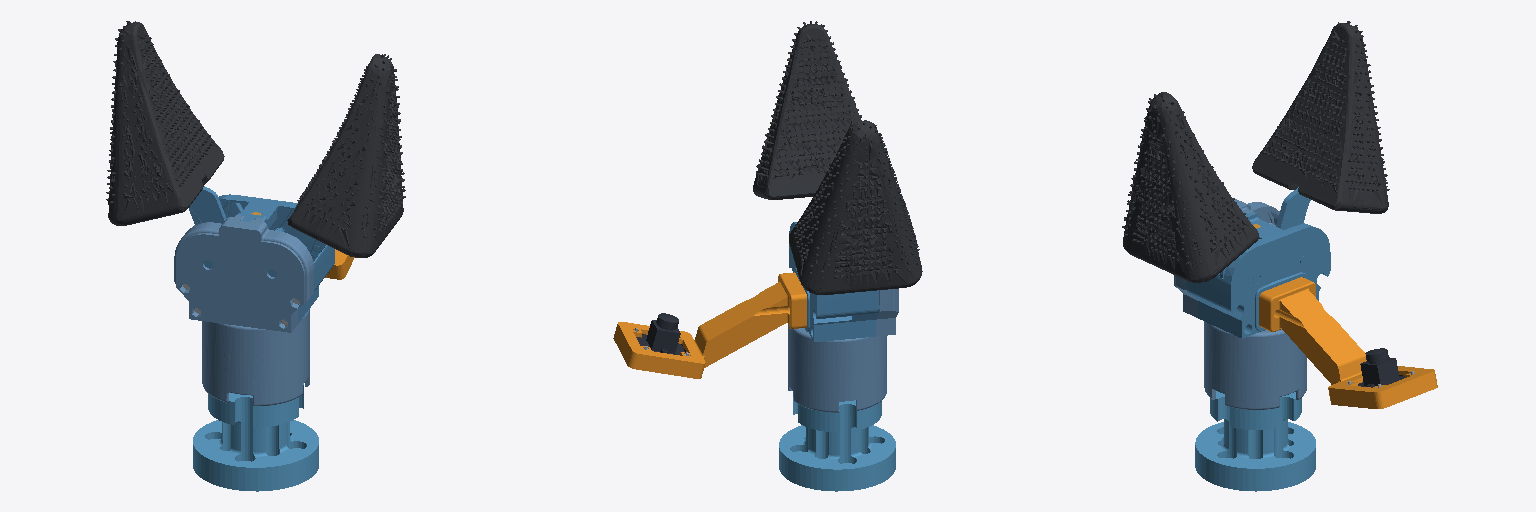
robot.urdf — marvin_r_with_gripper:
<?xml version='1.0' encoding='utf-8'?>
<robot name="marvin_r_with_gripper">
  <link name="Base_R">
    <inertial>
      <origin xyz="0.00032267 4.798E-05 0.04066353" rpy="0 0 0" />
      <mass value="1.1962" />
      <inertia ixx="0.00107329" ixy="-1.68E-06" ixz="-1.05E-05" iyy="0.00107003" iyz="-3.43E-06" izz="0.00127315" />
    </inertial>
    <visual>
      <origin xyz="0 0 0" rpy="0 0 0" />
      <geometry>
        <mesh filename="../meshes/Base_R.STL" />
      </geometry>
      <material name="">
        <color rgba="0.84 0.87 0.91 1" />
      </material>
    </visual>
    <collision>
      <origin xyz="0 0 0" rpy="0 0 0" />
      <geometry>
        <mesh filename="../meshes/Base_R.STL" />
      </geometry>
    </collision>
  </link>
  <link name="Link1_R">
    <inertial>
      <origin xyz="0.00002347 0.00557150 -0.03075998" rpy="0 0 0" />
      <mass value="1.9705" />
      <inertia ixx="0.00492293" ixy="0.00000550" ixz="0.00000193" iyy="0.00526513" iyz="0.00033232" izz="0.00188107" />
    </inertial>
    <visual>
      <origin xyz="0 0 0" rpy="0 0 0" />
      <geometry>
        <mesh filename="../meshes/Link1_R.STL" />
      </geometry>
      <material name="">
        <color rgba="0.84 0.87 0.91 1" />
      </material>
    </visual>
    <collision>
      <origin xyz="0 0 0" rpy="0 0 0" />
      <geometry>
        <mesh filename="../meshes/Link1_R.STL" />
      </geometry>
    </collision>
  </link>
  <joint name="Joint1_R" type="revolute">
    <origin xyz="0 0 0.1745" rpy="0 0 0" />
    <parent link="Base_R" />
    <child link="Link1_R" />
    <axis xyz="0 0 1" />
    <limit lower="-3.1067" upper="3.1067" effort="108" velocity="3.1416" />
  </joint>
  <link name="Link2_R">
    <inertial>
      <origin xyz="0.00013483 0.06170460 0.00950639" rpy="0 0 0" />
      <mass value="2.24398" />
      <inertia ixx="0.01194933" ixy="0.00000336" ixz="0.00000091" iyy="0.00361581" iyz="-0.00132804" izz="0.01098356" />
    </inertial>
    <visual>
      <origin xyz="0 0 0" rpy="0 0 0" />
      <geometry>
        <mesh filename="../meshes/Link2_R.STL" />
      </geometry>
      <material name="">
        <color rgba="0.84 0.87 0.91 1" />
      </material>
    </visual>
    <collision>
      <origin xyz="0 0 0" rpy="0 0 0" />
      <geometry>
        <mesh filename="../meshes/Link2_R.STL" />
      </geometry>
    </collision>
  </link>
  <joint name="Joint2_R" type="revolute">
    <origin xyz="0 0 0" rpy="1.5708 0 0" />
    <parent link="Link1_R" />
    <child link="Link2_R" />
    <axis xyz="0 0 1" />
    <limit lower="-2.0944" upper="2.0944" effort="108" velocity="3.1416" />
  </joint>
  <link name="Link3_R">
    <inertial>
      <origin xyz="0.00968562 0.00246599 -0.04627302" rpy="0 0 0" />
      <mass value="1.9242" />
      <inertia ixx="0.00718224" ixy="0.00004413" ixz="0.00089552" iyy="0.00762563" iyz="0.00022096" izz="0.00178597" />
    </inertial>
    <visual>
      <origin xyz="0 0 0" rpy="0 0 0" />
      <geometry>
        <mesh filename="../meshes/Link3_R.STL" />
      </geometry>
      <material name="">
        <color rgba="0.84 0.87 0.91 1" />
      </material>
    </visual>
    <collision>
      <origin xyz="0 0 0" rpy="0 0 0" />
      <geometry>
        <mesh filename="../meshes/Link3_R.STL" />
      </geometry>
    </collision>
  </link>
  <joint name="Joint3_R" type="revolute">
    <origin xyz="0 0.287 0" rpy="-1.5708 0 0" />
    <parent link="Link2_R" />
    <child link="Link3_R" />
    <axis xyz="0 0 1" />
    <limit lower="-3.1067" upper="3.1067" effort="66" velocity="3.1416" />
  </joint>
  <link name="Link4_R">
    <inertial>
      <origin xyz="0.00850411 -0.04718223 0.00941509" rpy="0 0 0" />
      <mass value="1.6085" />
      <inertia ixx="0.00580480" ixy="-0.00066669" ixz="-0.00012722" iyy="0.00223807" iyz="0.00070523" izz="0.00533060" />
    </inertial>
    <visual>
      <origin xyz="0 0 0" rpy="0 0 0" />
      <geometry>
        <mesh filename="../meshes/Link4_R.STL" />
      </geometry>
      <material name="">
        <color rgba="0.84 0.87 0.91 1" />
      </material>
    </visual>
    <collision>
      <origin xyz="0 0 0" rpy="0 0 0" />
      <geometry>
        <mesh filename="../meshes/Link4_R.STL" />
      </geometry>
    </collision>
  </link>
  <joint name="Joint4_R" type="revolute">
    <origin xyz="0.018 0 0" rpy="-1.5708 0 3.1416" />
    <parent link="Link3_R" />
    <child link="Link4_R" />
    <axis xyz="0 0 1" />
    <limit lower="-2.5307" upper="1.0472" effort="66" velocity="3.1416" />
  </joint>
  <link name="Link5_R">
    <inertial>
      <origin xyz="-0.00051127 -0.00101064 -0.11271739" rpy="0 0 0" />
      <mass value="2.0883" />
      <inertia ixx="0.00626603" ixy="0.00004009" ixz="-0.00005338" iyy="0.00564387" iyz="0.00006193" izz="0.00243632" />
    </inertial>
    <visual>
      <origin xyz="0 0 0" rpy="0 0 0" />
      <geometry>
        <mesh filename="../meshes/Link5_R.STL" />
      </geometry>
      <material name="">
        <color rgba="0.84 0.87 0.91 1" />
      </material>
    </visual>
    <collision>
      <origin xyz="0 0 0" rpy="0 0 0" />
      <geometry>
        <mesh filename="../meshes/Link5_R.STL" />
      </geometry>
    </collision>
  </link>
  <joint name="Joint5_R" type="revolute">
    <origin xyz="0.018 -0.314 0" rpy="-1.5708 0 3.1416" />
    <parent link="Link4_R" />
    <child link="Link5_R" />
    <axis xyz="0 0 1" />
    <limit lower="-3.1067" upper="3.1067" effort="18" velocity="3.1416" />
  </joint>
  <link name="Link6_R">
    <inertial>
      <origin xyz="0.00032659 -0.00531336 0.00030182" rpy="0 0 0" />
      <mass value="0.72496" />
      <inertia ixx="0.00046040" ixy="-0.00000189" ixz="-0.00000083" iyy="0.00051716" iyz="-0.00000346" izz="0.00042521" />
    </inertial>
    <visual>
      <origin xyz="0 0 0" rpy="0 0 0" />
      <geometry>
        <mesh filename="../meshes/Link6_R.STL" />
      </geometry>
      <material name="">
        <color rgba="0.84 0.87 0.91 1" />
      </material>
    </visual>
    <collision>
      <origin xyz="0 0 0" rpy="0 0 0" />
      <geometry>
        <mesh filename="../meshes/Link6_R.STL" />
      </geometry>
    </collision>
  </link>
  <joint name="Joint6_R" type="revolute">
    <origin xyz="0 0 0" rpy="1.5708 -1.5708 0" />
    <parent link="Link5_R" />
    <child link="Link6_R" />
    <axis xyz="0 0 1" />
    <limit lower="-1.0472" upper="1.0472" effort="18" velocity="3.1416" />
  </joint>
  <link name="Link7_R">
    <inertial>
      <origin xyz="-0.00009108 -0.03153255 0.00889371" rpy="0 0 0" />
      <mass value="0.68606" />
      <inertia ixx="0.00173687" ixy="-0.00000345" ixz="-0.00000116" iyy="0.00089035" iyz="0.00030680" izz="0.00139406" />
    </inertial>
    <visual>
      <origin xyz="0 0 0" rpy="0 0 0" />
      <geometry>
        <mesh filename="../meshes/Link7_R.STL" />
      </geometry>
      <material name="">
        <color rgba="0.84 0.87 0.91 1" />
      </material>
    </visual>
    <collision>
      <origin xyz="0 0 0" rpy="0 0 0" />
      <geometry>
        <mesh filename="../meshes/Link7_R.STL" />
      </geometry>
    </collision>
  </link>
  <joint name="Joint7_R" type="revolute">
    <origin xyz="0 0 0" rpy="1.5708 -1.5708 0" />
    <parent link="Link6_R" />
    <child link="Link7_R" />
    <axis xyz="0 0 1" />
    <limit lower="-1.5708" upper="1.5708" effort="18" velocity="3.1416" />
  </joint>
  <mujoco>
    <compiler discardvisual="false" fusestatic="false" strippath="false" />
  </mujoco>
  <link name="flange_R" />
  <joint name="flange_fixed_R" type="fixed">
    <parent link="Link7_R" />
    <child link="flange_R" />
    <origin xyz="0 -0.095 0" rpy="1.57079632679 -1.57079632679 0" />
  </joint>
  <link name="gripper_R">
    <inertial>
      <origin xyz="0.0173978487962 -0.0173985527421 0.0879018604755" rpy="0 0 0" />
      <mass value="0.5599999999999999" />
      <inertia ixx="0.002279585654318638" iyy="0.00227957296689104" izz="0.0016745101131867824" ixy="0" ixz="0" iyz="0" />
    </inertial>
    <visual name="windows_00">
      <origin xyz="0 0 0" rpy="0 0 0" />
      <geometry>
        <mesh filename="../meshes/gripper/windows_00.stl" />
      </geometry>
      <material name="windows_00">
        <color rgba="0.65 0.66 0.68 1" />
      </material>
    </visual>
    <visual name="windows_01">
      <origin xyz="0 0 0" rpy="0 0 0" />
      <geometry>
        <mesh filename="../meshes/gripper/windows_01.stl" />
      </geometry>
      <material name="windows_01">
        <color rgba="0.65 0.66 0.68 1" />
      </material>
    </visual>
    <visual name="windows_02">
      <origin xyz="0 0 0" rpy="0 0 0" />
      <geometry>
        <mesh filename="../meshes/gripper/windows_02.stl" />
      </geometry>
      <material name="windows_02">
        <color rgba="0.65 0.66 0.68 1" />
      </material>
    </visual>
    <visual name="windows_03">
      <origin xyz="0 0 0" rpy="0 0 0" />
      <geometry>
        <mesh filename="../meshes/gripper/windows_03.stl" />
      </geometry>
      <material name="windows_03">
        <color rgba="0.65 0.66 0.68 1" />
      </material>
    </visual>
    <visual name="windows_04">
      <origin xyz="0 0 0" rpy="0 0 0" />
      <geometry>
        <mesh filename="../meshes/gripper/windows_04.stl" />
      </geometry>
      <material name="windows_04">
        <color rgba="0.65 0.66 0.68 1" />
      </material>
    </visual>
    <visual name="windows_05">
      <origin xyz="0 0 0" rpy="0 0 0" />
      <geometry>
        <mesh filename="../meshes/gripper/windows_05.stl" />
      </geometry>
      <material name="windows_05">
        <color rgba="0.65 0.66 0.68 1" />
      </material>
    </visual>
    <visual name="windows_06">
      <origin xyz="0 0 0" rpy="0 0 0" />
      <geometry>
        <mesh filename="../meshes/gripper/windows_06.stl" />
      </geometry>
      <material name="windows_06">
        <color rgba="0.65 0.66 0.68 1" />
      </material>
    </visual>
    <visual name="windows_07">
      <origin xyz="0 0 0" rpy="0 0 0" />
      <geometry>
        <mesh filename="../meshes/gripper/windows_07.stl" />
      </geometry>
      <material name="windows_07">
        <color rgba="0.65 0.66 0.68 1" />
      </material>
    </visual>
    <visual name="windows_08">
      <origin xyz="0 0 0" rpy="0 0 0" />
      <geometry>
        <mesh filename="../meshes/gripper/windows_08.stl" />
      </geometry>
      <material name="windows_08">
        <color rgba="0.65 0.66 0.68 1" />
      </material>
    </visual>
    <visual name="windows_09">
      <origin xyz="0 0 0" rpy="0 0 0" />
      <geometry>
        <mesh filename="../meshes/gripper/windows_09.stl" />
      </geometry>
      <material name="windows_09">
        <color rgba="0.65 0.66 0.68 1" />
      </material>
    </visual>
    <visual name="windows_12">
      <origin xyz="0 0 0" rpy="0 0 0" />
      <geometry>
        <mesh filename="../meshes/gripper/windows_12.stl" />
      </geometry>
      <material name="windows_12">
        <color rgba="0.64 0.67 0.71 1" />
      </material>
    </visual>
    <visual name="windows_13">
      <origin xyz="0 0 0" rpy="0 0 0" />
      <geometry>
        <mesh filename="../meshes/gripper/windows_13.stl" />
      </geometry>
      <material name="windows_13">
        <color rgba="0.43 0.58 0.72 1" />
      </material>
    </visual>
    <collision>
      <origin xyz="0 0 0" rpy="0 0 0" />
      <geometry>
        <mesh filename="../meshes/gripper/windows_13_collision.stl" />
      </geometry>
    </collision>
    <visual name="windows_14">
      <origin xyz="0 0 0" rpy="0 0 0" />
      <geometry>
        <mesh filename="../meshes/gripper/windows_14.stl" />
      </geometry>
      <material name="windows_14">
        <color rgba="0.92 0.6 0.2 1" />
      </material>
    </visual>
    <visual name="windows_15">
      <origin xyz="0 0 0" rpy="0 0 0" />
      <geometry>
        <mesh filename="../meshes/gripper/windows_15.stl" />
      </geometry>
      <material name="windows_15">
        <color rgba="0.83 0.62 0.28 1" />
      </material>
    </visual>
    <visual name="windows_18">
      <origin xyz="0 0 0" rpy="0 0 0" />
      <geometry>
        <mesh filename="../meshes/gripper/windows_18.stl" />
      </geometry>
      <material name="windows_18">
        <color rgba="0.64 0.67 0.71 1" />
      </material>
    </visual>
    <visual name="windows_19">
      <origin xyz="0 0 0" rpy="0 0 0" />
      <geometry>
        <mesh filename="../meshes/gripper/windows_19.stl" />
      </geometry>
      <material name="windows_19">
        <color rgba="0.64 0.67 0.71 1" />
      </material>
    </visual>
    <visual name="windows_20">
      <origin xyz="0 0 0" rpy="0 0 0" />
      <geometry>
        <mesh filename="../meshes/gripper/windows_20.stl" />
      </geometry>
      <material name="windows_20">
        <color rgba="0.35 0.57 0.73 1" />
      </material>
    </visual>
    <collision>
      <origin xyz="0 0 0" rpy="0 0 0" />
      <geometry>
        <mesh filename="../meshes/gripper/windows_20_collision.stl" />
      </geometry>
    </collision>
    <visual name="windows_21">
      <origin xyz="0 0 0" rpy="0 0 0" />
      <geometry>
        <mesh filename="../meshes/gripper/windows_21.stl" />
      </geometry>
      <material name="windows_21">
        <color rgba="0.22 0.24 0.28 1" />
      </material>
    </visual>
    <visual name="windows_22">
      <origin xyz="0 0 0" rpy="0 0 0" />
      <geometry>
        <mesh filename="../meshes/gripper/windows_22.stl" />
      </geometry>
      <material name="windows_22">
        <color rgba="0.38 0.64 0.8 1" />
      </material>
    </visual>
    <visual name="windows_23">
      <origin xyz="0 0 0" rpy="0 0 0" />
      <geometry>
        <mesh filename="../meshes/gripper/windows_23.stl" />
      </geometry>
      <material name="windows_23">
        <color rgba="0.43 0.58 0.72 1" />
      </material>
    </visual>
    <collision>
      <origin xyz="0 0 0" rpy="0 0 0" />
      <geometry>
        <mesh filename="../meshes/gripper/windows_23_collision.stl" />
      </geometry>
    </collision>
    <visual name="windows_25">
      <origin xyz="0 0 0" rpy="0 0 0" />
      <geometry>
        <mesh filename="../meshes/gripper/windows_25.stl" />
      </geometry>
      <material name="windows_25">
        <color rgba="0.64 0.67 0.71 1" />
      </material>
    </visual>
    <visual name="windows_26">
      <origin xyz="0 0 0" rpy="0 0 0" />
      <geometry>
        <mesh filename="../meshes/gripper/windows_26.stl" />
      </geometry>
      <material name="windows_26">
        <color rgba="0.64 0.67 0.71 1" />
      </material>
    </visual>
    <visual name="windows_27">
      <origin xyz="0 0 0" rpy="0 0 0" />
      <geometry>
        <mesh filename="../meshes/gripper/windows_27.stl" />
      </geometry>
      <material name="windows_27">
        <color rgba="0.64 0.67 0.71 1" />
      </material>
    </visual>
    <visual name="windows_28">
      <origin xyz="0 0 0" rpy="0 0 0" />
      <geometry>
        <mesh filename="../meshes/gripper/windows_28.stl" />
      </geometry>
      <material name="windows_28">
        <color rgba="0.64 0.67 0.71 1" />
      </material>
    </visual>
    <visual name="windows_29">
      <origin xyz="0 0 0" rpy="0 0 0" />
      <geometry>
        <mesh filename="../meshes/gripper/windows_29.stl" />
      </geometry>
      <material name="windows_29">
        <color rgba="0.65 0.66 0.68 1" />
      </material>
    </visual>
    <visual name="windows_30">
      <origin xyz="0 0 0" rpy="0 0 0" />
      <geometry>
        <mesh filename="../meshes/gripper/windows_30.stl" />
      </geometry>
      <material name="windows_30">
        <color rgba="0.64 0.67 0.71 1" />
      </material>
    </visual>
    <visual name="windows_31">
      <origin xyz="0 0 0" rpy="0 0 0" />
      <geometry>
        <mesh filename="../meshes/gripper/windows_31.stl" />
      </geometry>
      <material name="windows_31">
        <color rgba="0.65 0.66 0.68 1" />
      </material>
    </visual>
    <visual name="windows_32">
      <origin xyz="0 0 0" rpy="0 0 0" />
      <geometry>
        <mesh filename="../meshes/gripper/windows_32.stl" />
      </geometry>
      <material name="windows_32">
        <color rgba="0.65 0.66 0.68 1" />
      </material>
    </visual>
    <visual name="windows_33">
      <origin xyz="0 0 0" rpy="0 0 0" />
      <geometry>
        <mesh filename="../meshes/gripper/windows_33.stl" />
      </geometry>
      <material name="windows_33">
        <color rgba="0.65 0.66 0.68 1" />
      </material>
    </visual>
    <visual name="windows_34">
      <origin xyz="0 0 0" rpy="0 0 0" />
      <geometry>
        <mesh filename="../meshes/gripper/windows_34.stl" />
      </geometry>
      <material name="windows_34">
        <color rgba="0.64 0.67 0.71 1" />
      </material>
    </visual>
    <visual name="windows_35">
      <origin xyz="0 0 0" rpy="0 0 0" />
      <geometry>
        <mesh filename="../meshes/gripper/windows_35.stl" />
      </geometry>
      <material name="windows_35">
        <color rgba="0.65 0.66 0.68 1" />
      </material>
    </visual>
    <visual name="windows_36">
      <origin xyz="0 0 0" rpy="0 0 0" />
      <geometry>
        <mesh filename="../meshes/gripper/windows_36.stl" />
      </geometry>
      <material name="windows_36">
        <color rgba="0.64 0.67 0.71 1" />
      </material>
    </visual>
    <visual name="windows_37">
      <origin xyz="0 0 0" rpy="0 0 0" />
      <geometry>
        <mesh filename="../meshes/gripper/windows_37.stl" />
      </geometry>
      <material name="windows_37">
        <color rgba="0.64 0.67 0.71 1" />
      </material>
    </visual>
  </link>
  <link name="gripper_R_shaft">
    <inertial>
      <origin xyz="0 0 0.0222999959052" rpy="0 0 0" />
      <mass value="0.08000000000000002" />
      <inertia ixx="3.8087871309740615e-05" iyy="3.809107795905756e-05" izz="1.6325626265346687e-05" ixy="0" ixz="0" iyz="0" />
    </inertial>
    <visual name="windows_24">
      <origin xyz="0 0 0" rpy="0 0 0" />
      <geometry>
        <mesh filename="../meshes/gripper/windows_24.stl" />
      </geometry>
      <material name="windows_24">
        <color rgba="0.83 0.62 0.28 1" />
      </material>
    </visual>
  </link>
  <link name="gripper_R_1">
    <inertial>
      <origin xyz="0.00609649628609 -0.00743152875382 0.0388951395498" rpy="0 0 0" />
      <mass value="0.08000000000000002" />
      <inertia ixx="9.842353058535354e-05" iyy="0.00010140583011828495" izz="4.556528629881749e-05" ixy="0" ixz="0" iyz="0" />
    </inertial>
    <visual name="windows_11">
      <origin xyz="0 0 0" rpy="0 0 0" />
      <geometry>
        <mesh filename="../meshes/gripper/windows_11.stl" />
      </geometry>
      <material name="windows_11">
        <color rgba="0.25 0.26 0.28 1" />
      </material>
    </visual>
    <collision>
      <origin xyz="0 0 0" rpy="0 0 0" />
      <geometry>
        <mesh filename="../meshes/gripper/windows_11_collision.stl" />
      </geometry>
    </collision>
    <visual name="windows_16">
      <origin xyz="0 0 0" rpy="0 0 0" />
      <geometry>
        <mesh filename="../meshes/gripper/windows_16.stl" />
      </geometry>
      <material name="windows_16">
        <color rgba="0.35 0.57 0.73 1" />
      </material>
    </visual>
    <collision>
      <origin xyz="0 0 0" rpy="0 0 0" />
      <geometry>
        <mesh filename="../meshes/gripper/windows_16_collision.stl" />
      </geometry>
    </collision>
  </link>
  <link name="gripper_R_17">
    <inertial>
      <origin xyz="0.00932866686431 0.00192968675112 0.0388951440536" rpy="0 0 0" />
      <mass value="0.08000000000000002" />
      <inertia ixx="9.888106375838761e-05" iyy="9.648394838028121e-05" izz="4.1100970061134626e-05" ixy="0" ixz="0" iyz="0" />
    </inertial>
    <visual name="windows_10">
      <origin xyz="0 0 0" rpy="0 0 0" />
      <geometry>
        <mesh filename="../meshes/gripper/windows_10.stl" />
      </geometry>
      <material name="windows_10">
        <color rgba="0.25 0.26 0.28 1" />
      </material>
    </visual>
    <collision>
      <origin xyz="0 0 0" rpy="0 0 0" />
      <geometry>
        <mesh filename="../meshes/gripper/windows_10_collision.stl" />
      </geometry>
    </collision>
    <visual name="windows_17">
      <origin xyz="0 0 0" rpy="0 0 0" />
      <geometry>
        <mesh filename="../meshes/gripper/windows_17.stl" />
      </geometry>
      <material name="windows_17">
        <color rgba="0.35 0.57 0.73 1" />
      </material>
    </visual>
    <collision>
      <origin xyz="0 0 0" rpy="0 0 0" />
      <geometry>
        <mesh filename="../meshes/gripper/windows_17_collision.stl" />
      </geometry>
    </collision>
  </link>
  <joint name="gripper_drive_R" type="revolute">
    <parent link="gripper_R" />
    <child link="gripper_R_shaft" />
    <origin xyz="1.10189635194e-14 9.66596594432e-13 0.1527" rpy="0 0 0" />
    <axis xyz="5.26951314166e-16 -1.72167242171e-11 -1" />
    <limit lower="0" upper="1.2921362630655375" effort="2" velocity="7" />
  </joint>
  <joint name="gripper_jaw_1_R" type="revolute">
    <parent link="gripper_R" />
    <child link="gripper_R_1" />
    <origin xyz="-0.0134169278033 0.0146629353591 0.141725549598" rpy="0 0 0" />
    <axis xyz="-0.737757472959 -0.675065292805 0.00087266452685" />
    <limit lower="-0.14271280859747848" upper="0.36563074194220935" effort="2" velocity="7" />
    <mimic joint="gripper_drive_R" multiplier="-0.39341326845333224" offset="0.36563074194220935" />
  </joint>
  <joint name="gripper_jaw_17_R" type="revolute">
    <parent link="gripper_R" />
    <child link="gripper_R_17" />
    <origin xyz="0.0134169278033 -0.0146629353575 0.141725549599" rpy="0 0 0" />
    <axis xyz="-0.737757472959 -0.675065292805 0.00087266452685" />
    <limit lower="-0.36563074194220935" upper="0.14271280859747848" effort="2" velocity="7" />
    <mimic joint="gripper_drive_R" multiplier="0.39341326845333224" offset="-0.36563074194220935" />
  </joint>
  <joint name="gripper_mount_R" type="fixed">
    <parent link="flange_R" />
    <child link="gripper_R" />
    <origin xyz="0 0 0" rpy="0 0 3.141592653589793" />
  </joint>
  <link name="grasp_center_R" />
  <joint name="grasp_center_fixed_R" type="fixed">
    <parent link="gripper_R" />
    <child link="grasp_center_R" />
    <origin xyz="1.10241676898e-14 7.77652248152e-13 0.141725549598" rpy="-1.45632245152e-08 -1.56992366216 0.741053563255" />
  </joint>
</robot>

--- Facts derived from the render (not from the file) ---
3 views of the same robot in one strip: view 1: azimuth 30°, elevation 25°; view 2: azimuth 150°, elevation 25°; view 3: azimuth 270°, elevation 25° (orthographic).
Model marvin_r_with_gripper with 14 links and 13 joints (10 revolute, 3 fixed), rooted at Base_R, posed every joint at zero.
Links seen in each view (by area): view 1: gripper_R, gripper_R_17, gripper_R_1; view 2: gripper_R, gripper_R_17, gripper_R_1; view 3: gripper_R, gripper_R_17, gripper_R_1.
Link boxes in pixels (<box>): gripper_R: <box>174,194,354,491</box>; gripper_R_17: <box>106,21,226,268</box>; gripper_R_1: <box>268,54,405,276</box>; gripper_R: <box>613,222,898,491</box>; gripper_R_17: <box>789,120,922,294</box>; gripper_R_1: <box>753,21,861,199</box>; gripper_R: <box>1174,199,1437,491</box>; gripper_R_17: <box>1252,21,1389,265</box>; gripper_R_1: <box>1122,92,1260,283</box>.
Bounding box of the posed robot: 0.2003 × 0.1957 × 0.2795 m (x, y, z).
Meshes: 46 distinct files referenced, 37 mesh visuals loaded (37 binary STL); not drawn: 9 (reference not matched to a file when rendering).
